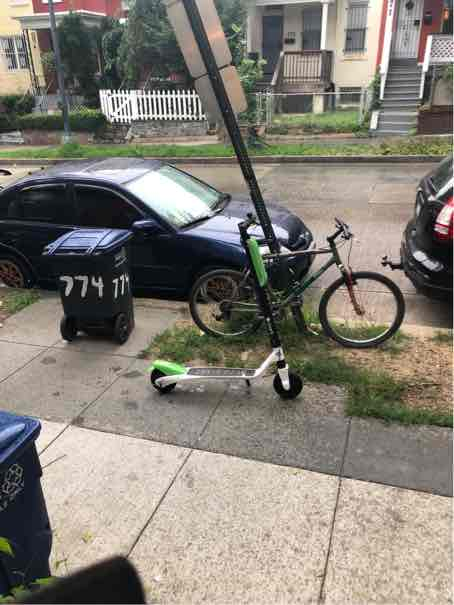scooter: (146, 139, 295, 410)
